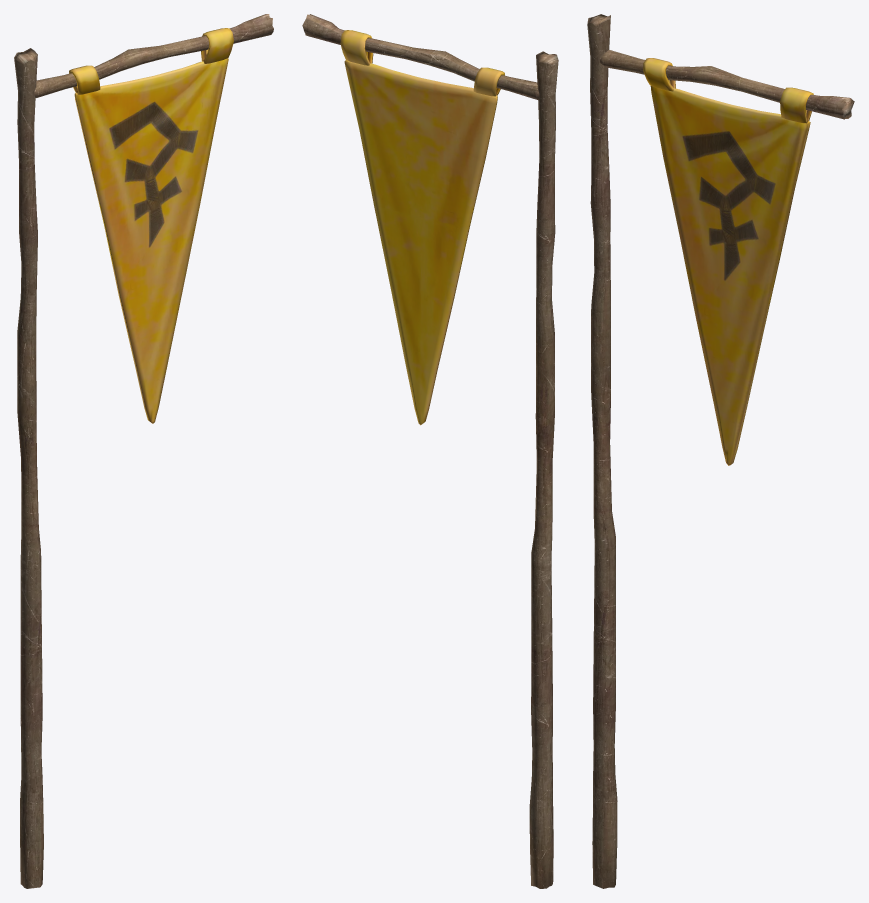
3 renders of one model, left to right at view 1: azimuth 30°, elevation 25°; view 2: azimuth 150°, elevation 25°; view 3: azimuth 330°, elevation 25°, orthographic. The views are drawn at different scales.
Parts seen in each view (by area): view 1: SM_Single_Banner_Bandos_01v2_LOD0; view 2: SM_Single_Banner_Bandos_01v2_LOD0; view 3: SM_Single_Banner_Bandos_01v2_LOD0.
Boxes of the visible parts, left/top/right/bottom form: SM_Single_Banner_Bandos_01v2_LOD0: left=14, top=14, right=273, bottom=888; SM_Single_Banner_Bandos_01v2_LOD0: left=302, top=14, right=558, bottom=888; SM_Single_Banner_Bandos_01v2_LOD0: left=587, top=14, right=854, bottom=888.
Size of the model in its own units: 1.39 by 4.39 by 0.1182.
2 materials, 2 textured.
